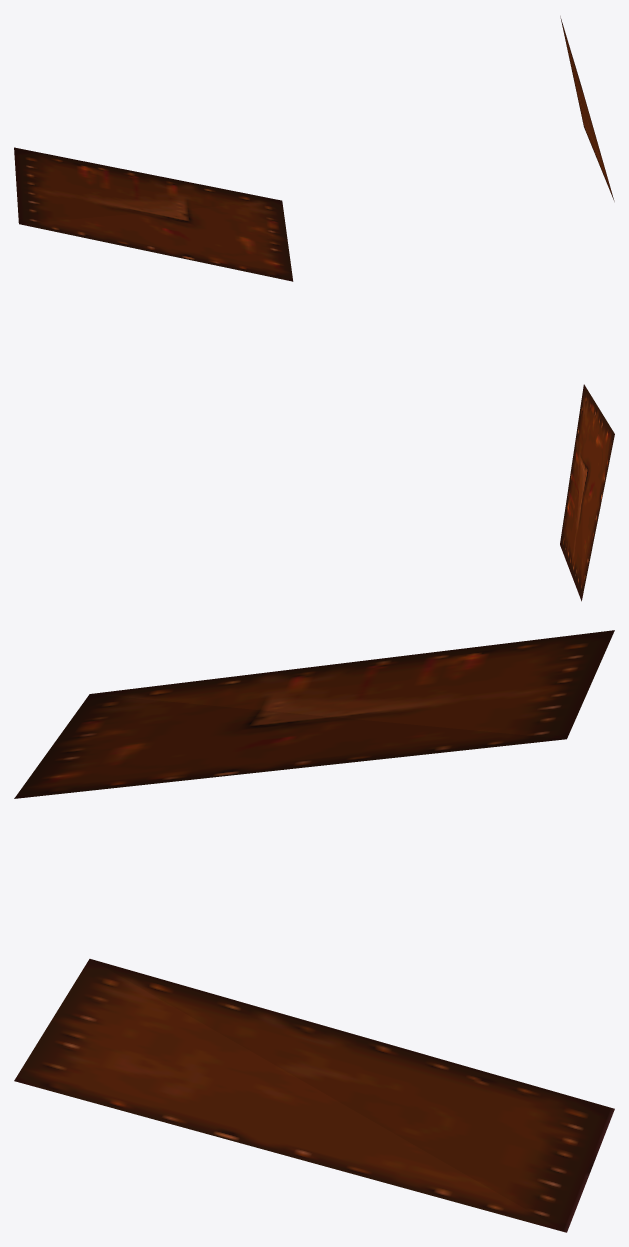
File: Schiff_Heck3_1261.glb
3 views of the same model, one above another, from view 1: azimuth 30°, elevation 25°; view 2: azimuth 150°, elevation 25°; view 3: azimuth 270°, elevation 25° (orthographic). The views are drawn at different scales.
Parts seen in each view (by area): view 1: pPlaneShape25, pPlaneShape46; view 2: pPlaneShape25; view 3: pPlaneShape46, pPlaneShape25.
Boxes of the visible parts, box(x1,y1,x2,y2) form: pPlaneShape25: box(14, 147, 293, 281); pPlaneShape46: box(560, 16, 614, 201); pPlaneShape25: box(560, 384, 614, 601); pPlaneShape46: box(14, 959, 614, 1232); pPlaneShape25: box(14, 630, 614, 798).
Bounding box in the file's own units: 1.72 × 0.2588 × 0.8829.
Materials: 2 (2 with a texture image).
